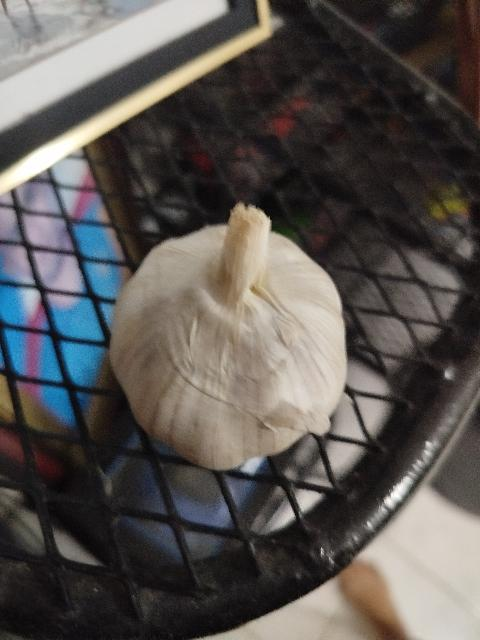garlic: (106, 201, 347, 471)
